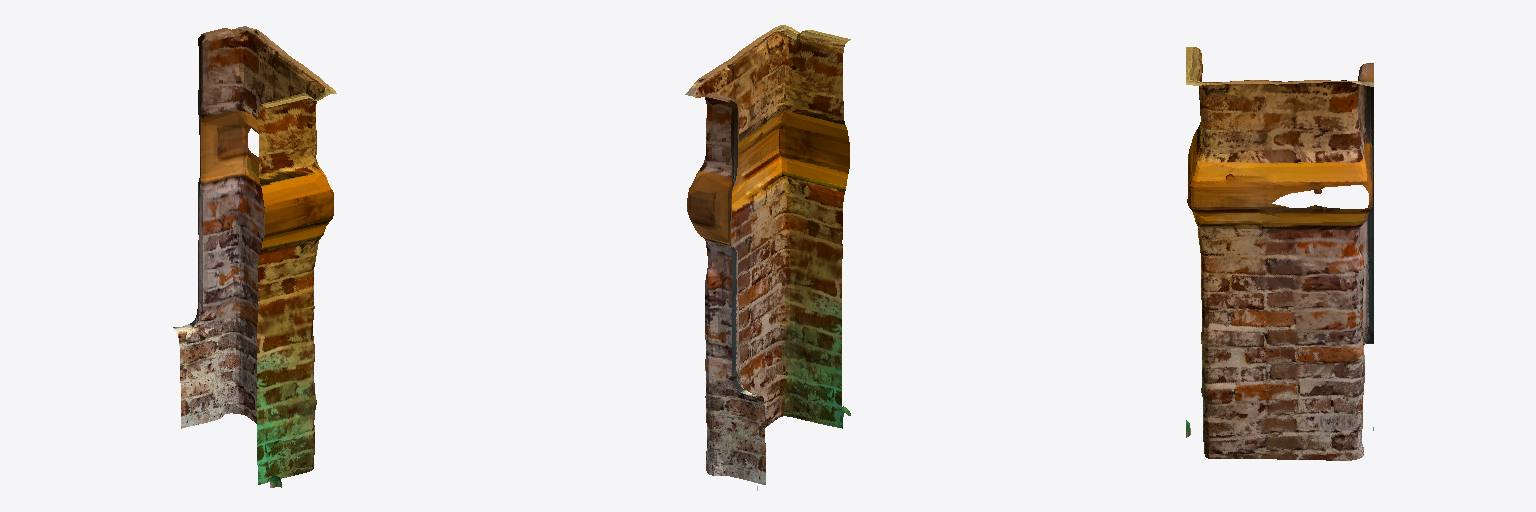
The picture shows the model from 3 angles: view 1: azimuth 30°, elevation 25°; view 2: azimuth 150°, elevation 25°; view 3: azimuth 270°, elevation 25°; orthographic projection.
Parts seen in each view (by area): view 1: mesh_0; view 2: mesh_0; view 3: mesh_0.
Part boxes in pixels (x1,y1,x2,y2): mesh_0: (173, 26, 336, 487); mesh_0: (685, 25, 850, 490); mesh_0: (1186, 47, 1373, 460).
Bounding box in the file's own units: 0.2862 × 1.44 × 0.6388.
1 materials, 1 textured.